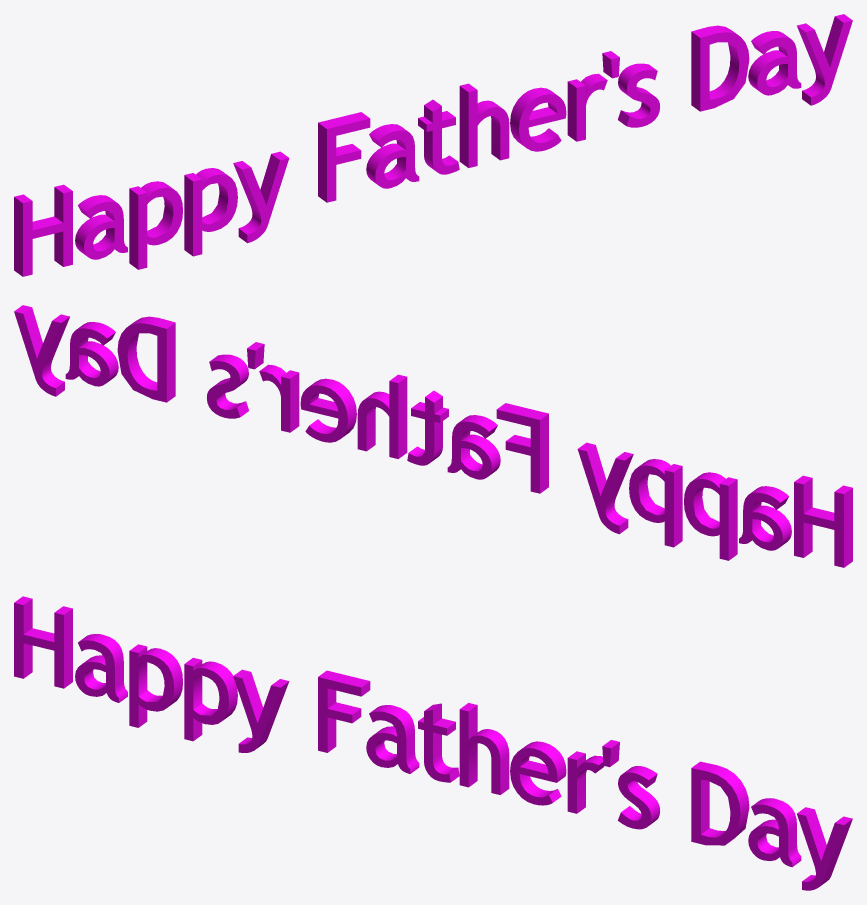
Rendered from hfd.glb.
The picture shows the model from 3 angles, top to bottom: view 1: azimuth 30°, elevation 25°; view 2: azimuth 150°, elevation 25°; view 3: azimuth 330°, elevation 25°; orthographic projection.
Visible parts, largest first — view 1: mesh_id57; view 2: mesh_id57; view 3: mesh_id57.
Part boxes in pixels (<box>): mesh_id57: <box>14,14,852,276</box>; mesh_id57: <box>14,305,852,567</box>; mesh_id57: <box>14,596,852,890</box>.
Size of the model in its own units: 1.01 by 0.1128 by 0.0188.
1 material, 1 textured.
